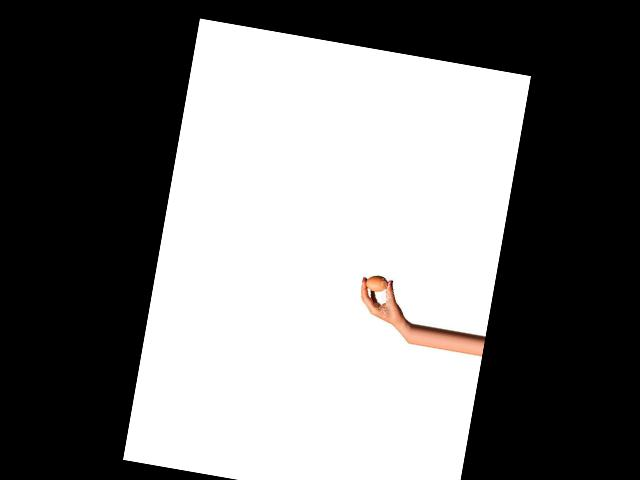egg: (365, 274, 389, 293)
